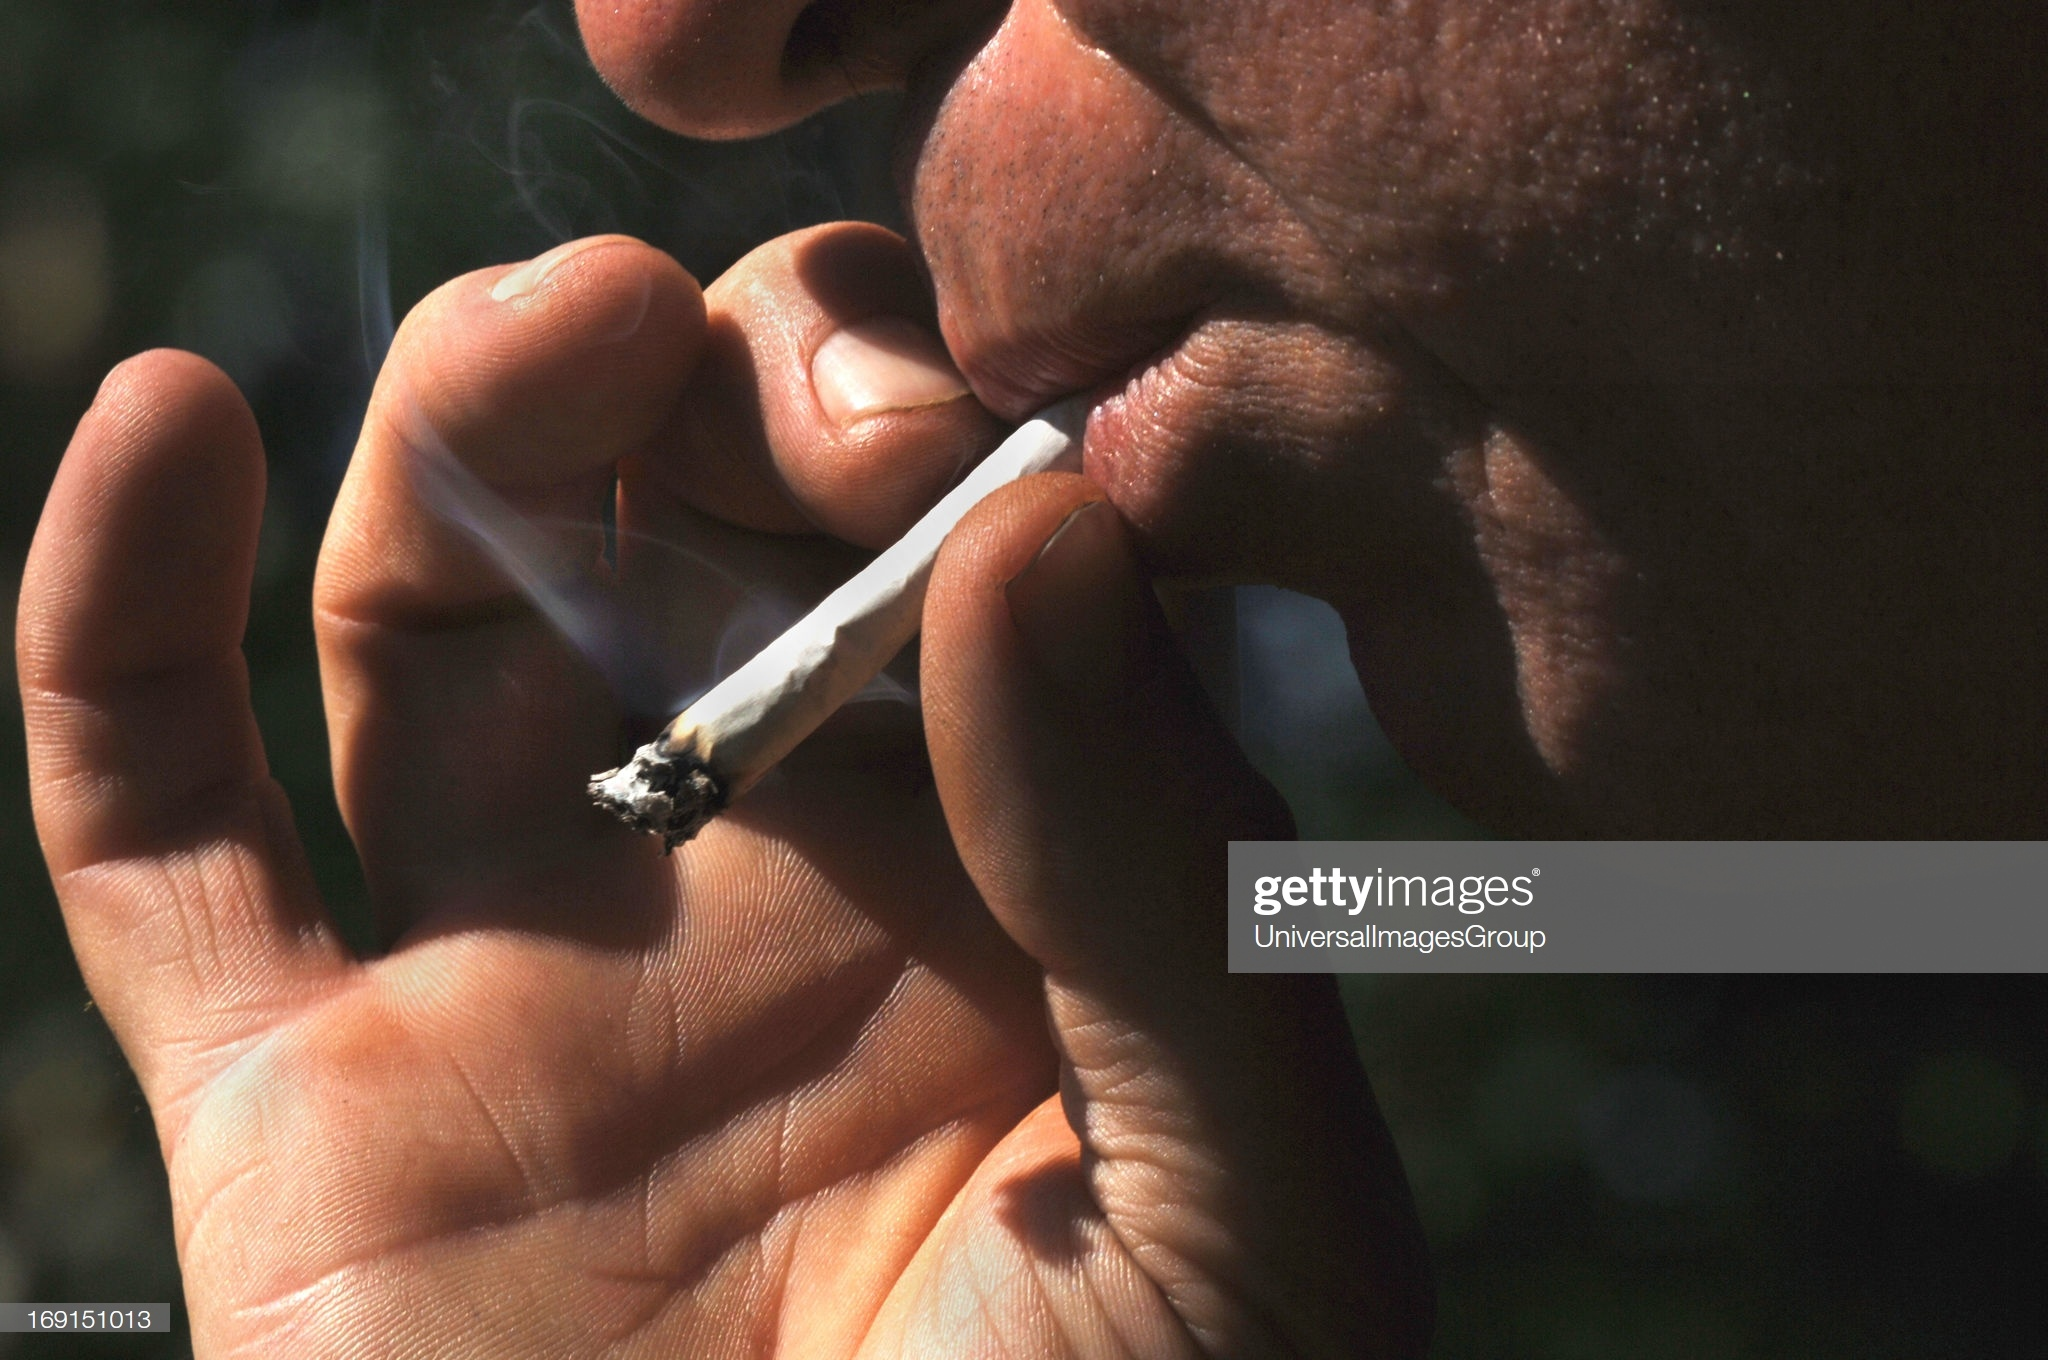sigaretta: (586, 395, 1101, 868)
